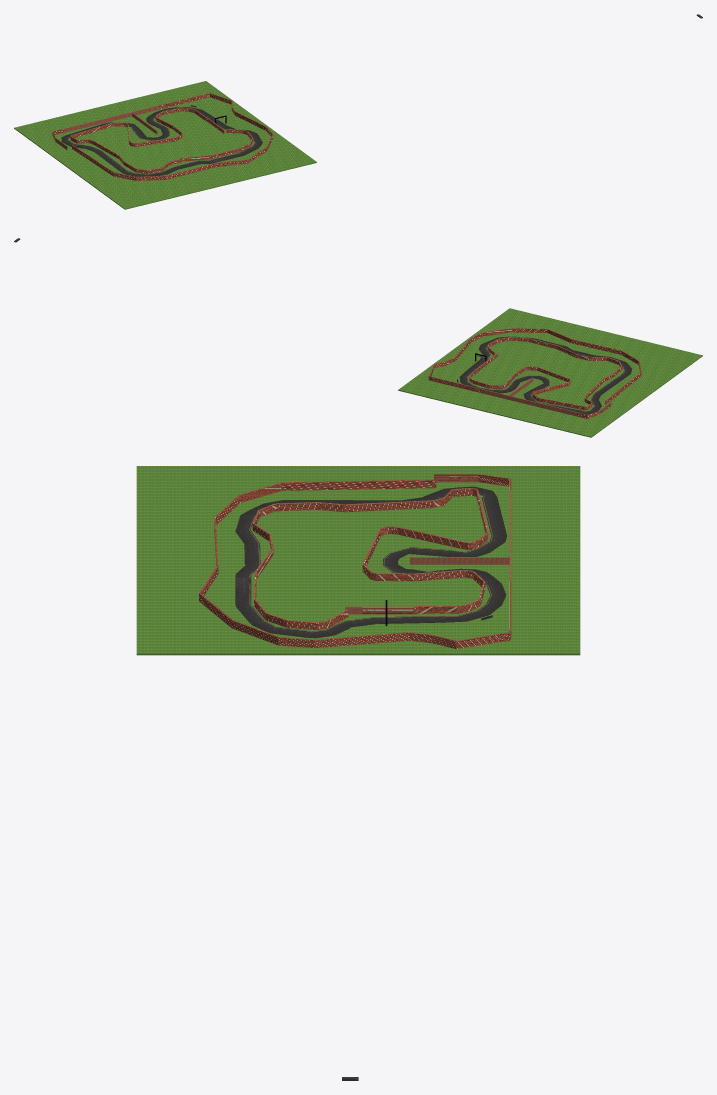
File: track.glb
3 renders of one model, top to bottom at view 1: azimuth 30°, elevation 25°; view 2: azimuth 150°, elevation 25°; view 3: azimuth 270°, elevation 25°, orthographic. The views are drawn at different scales.
Parts seen in each view (by area): view 1: ground, wall, wall-inner, road-2; view 2: ground, wall, wall-inner, road-2; view 3: ground, wall-inner, road-2, wall.
Boxes of the visible parts, left/top/right/bottom form: ground: left=14, top=81, right=316, bottom=209; wall: left=52, top=93, right=273, bottom=180; wall-inner: left=70, top=107, right=252, bottom=173; road-2: left=61, top=107, right=262, bottom=176; ground: left=398, top=308, right=702, bottom=437; wall: left=428, top=328, right=641, bottom=418; wall-inner: left=469, top=336, right=622, bottom=410; road-2: left=459, top=336, right=631, bottom=414; ground: left=136, top=466, right=580, bottom=655; wall-inner: left=252, top=488, right=509, bottom=630; road-2: left=235, top=486, right=506, bottom=638; wall: left=199, top=474, right=511, bottom=648.
Bounding box in the file's own units: 1638 × 23.84 × 500.
Materials: 29 (28 with a texture image).
